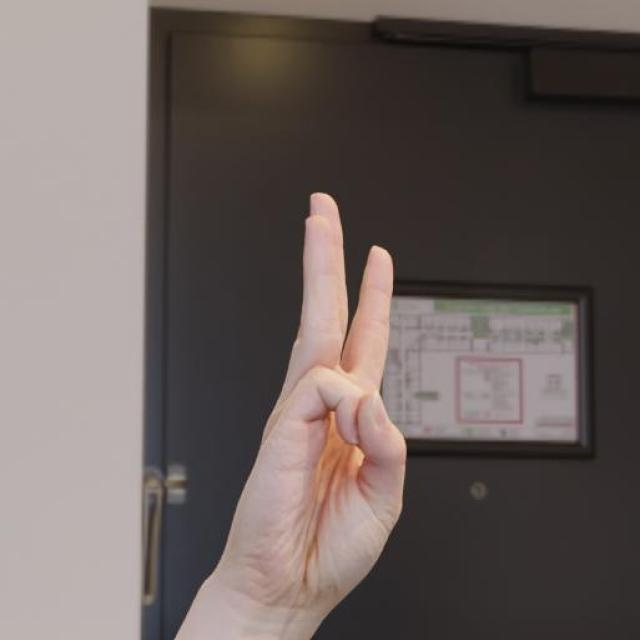W: (196, 187, 409, 636)
